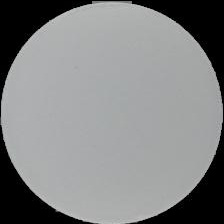61786-188: (0, 0, 224, 224)
